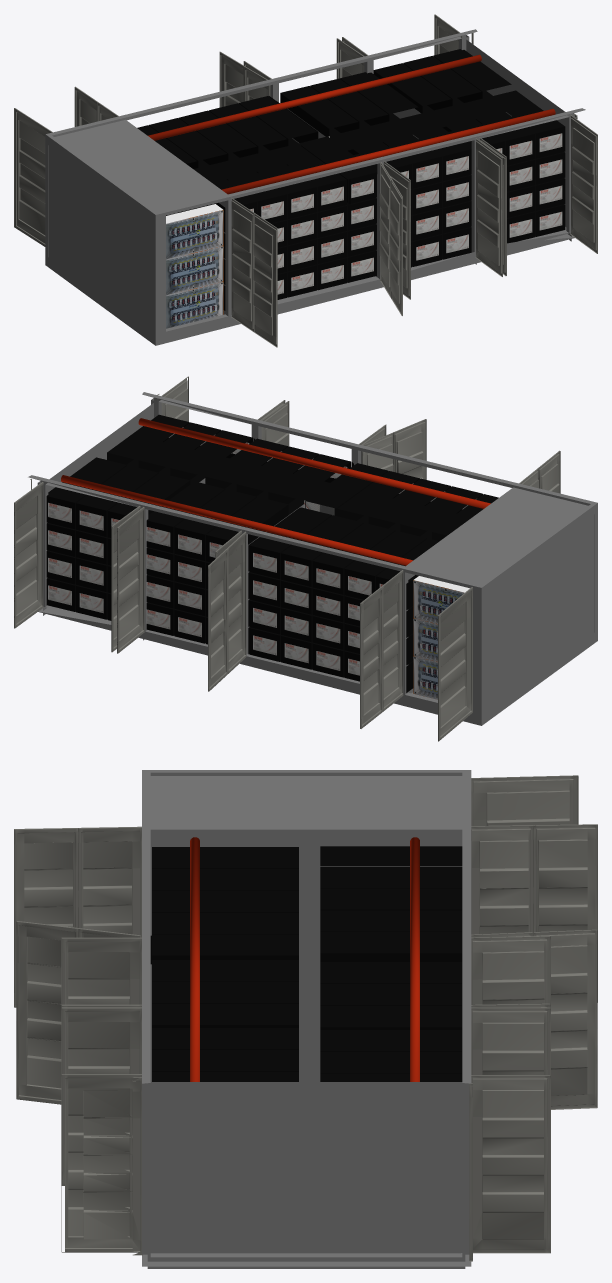
Rendered from Bess.glb.
3 views of the same model, one above another, from view 1: azimuth 30°, elevation 25°; view 2: azimuth 150°, elevation 25°; view 3: azimuth 270°, elevation 25° (orthographic). The views are drawn at different scales.
Visible parts, largest first — view 1: BESS; view 2: BESS; view 3: BESS.
Boxes of the visible parts, x1=… form: BESS: x1=14, y1=14, x2=597, y2=347; BESS: x1=14, y1=376, x2=597, y2=741; BESS: x1=14, y1=770, x2=597, y2=1268.
Size of the model in its own units: 2.53 by 0.7355 by 1.99.
Materials: 6 (2 with a texture image).
